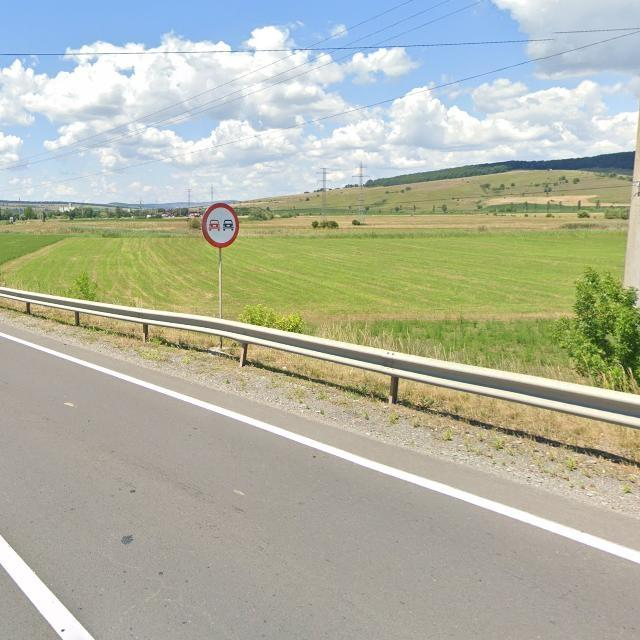forb_overtake: (199, 200, 239, 248)
